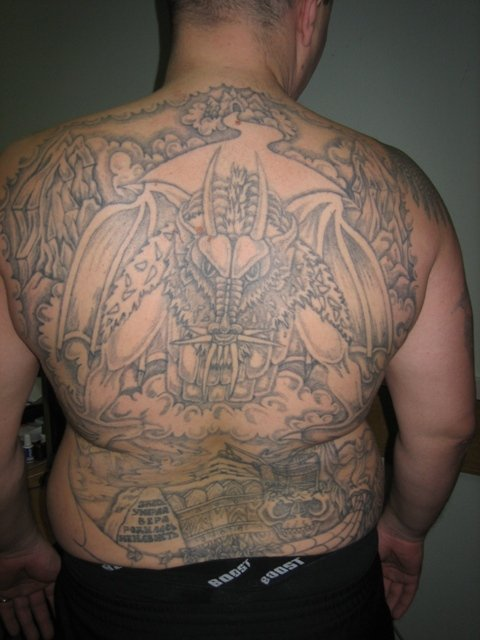tatu6_drakon: (15, 75, 428, 469)
